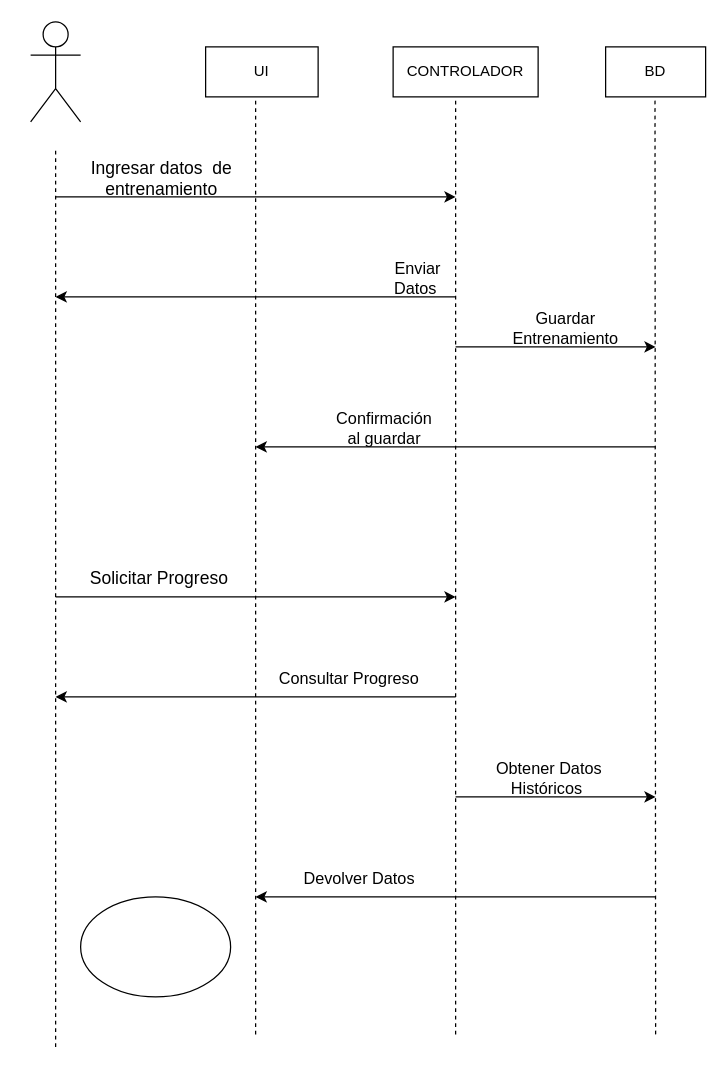
This 728x1070 diagram has some shape labels left out. The box of each missing label's shape, as (x1, y1, x2, y2) in pixels:
Enviar Resumen: (79, 896, 231, 997)
USUARIO: (29, 21, 81, 122)
